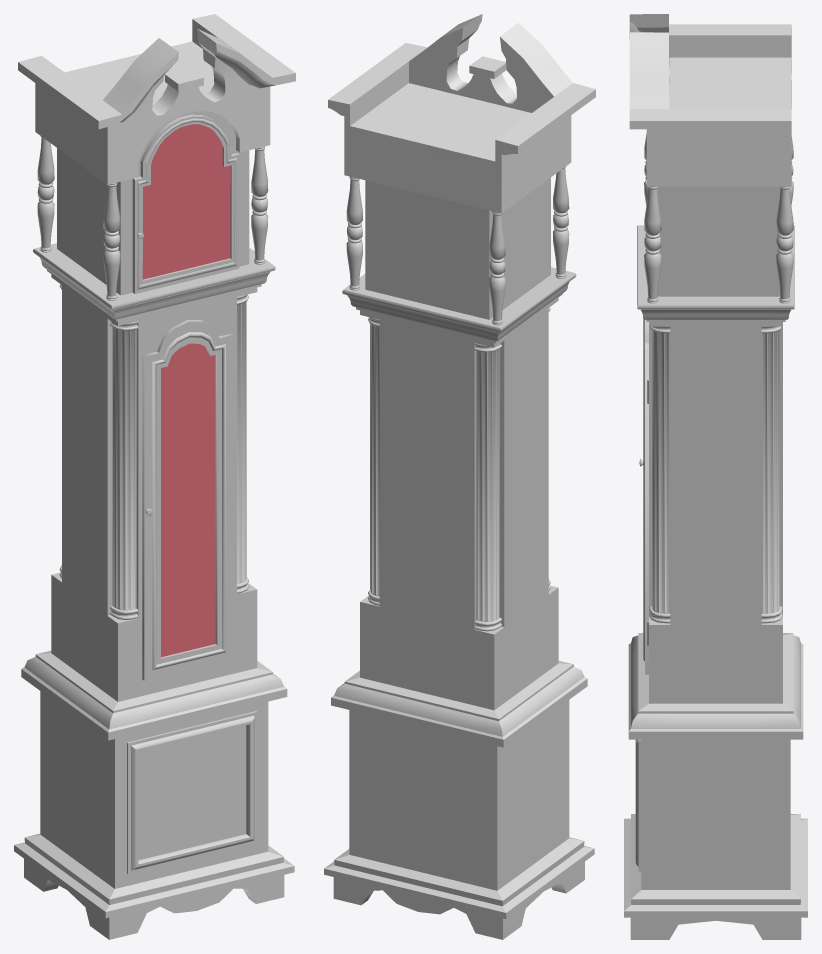
Rendered from Clock.fbx.
3 views of the same model, side by side, from view 1: azimuth 30°, elevation 25°; view 2: azimuth 150°, elevation 25°; view 3: azimuth 270°, elevation 25° (orthographic). The views are drawn at different scales.
Visible parts, largest first — view 1: ClockBase_low, ClockTallDoor_low, ClockBaseTop_low, ClockTopDoor_low; view 2: ClockBase_low, ClockBaseTop_low; view 3: ClockBase_low, ClockBaseTop_low, ClockTallDoor_low.
Boxes of the visible parts, box(x1,y1,x2,y2) form: ClockBase_low: box(14, 111, 294, 939); ClockTallDoor_low: box(142, 320, 234, 680); ClockBaseTop_low: box(18, 14, 295, 184); ClockTopDoor_low: box(132, 114, 239, 293); ClockBase_low: box(324, 166, 594, 939); ClockBaseTop_low: box(328, 14, 595, 213); ClockBase_low: box(624, 133, 807, 939); ClockBaseTop_low: box(629, 14, 791, 186); ClockTallDoor_low: box(639, 319, 648, 674).
Size of the model in its own units: 0.5691 by 0.4582 by 2.4.
